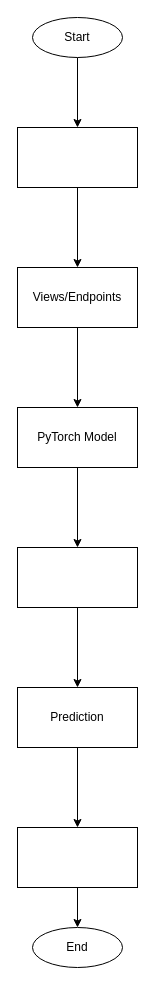
This 155x985 diagram has some shape labels left out. Here are the shapes that lost their labels. From the top down, the box of each, then its label:
(16, 126, 138, 188): User interface
(16, 546, 138, 608): Preprocessing
(16, 826, 138, 888): Response
